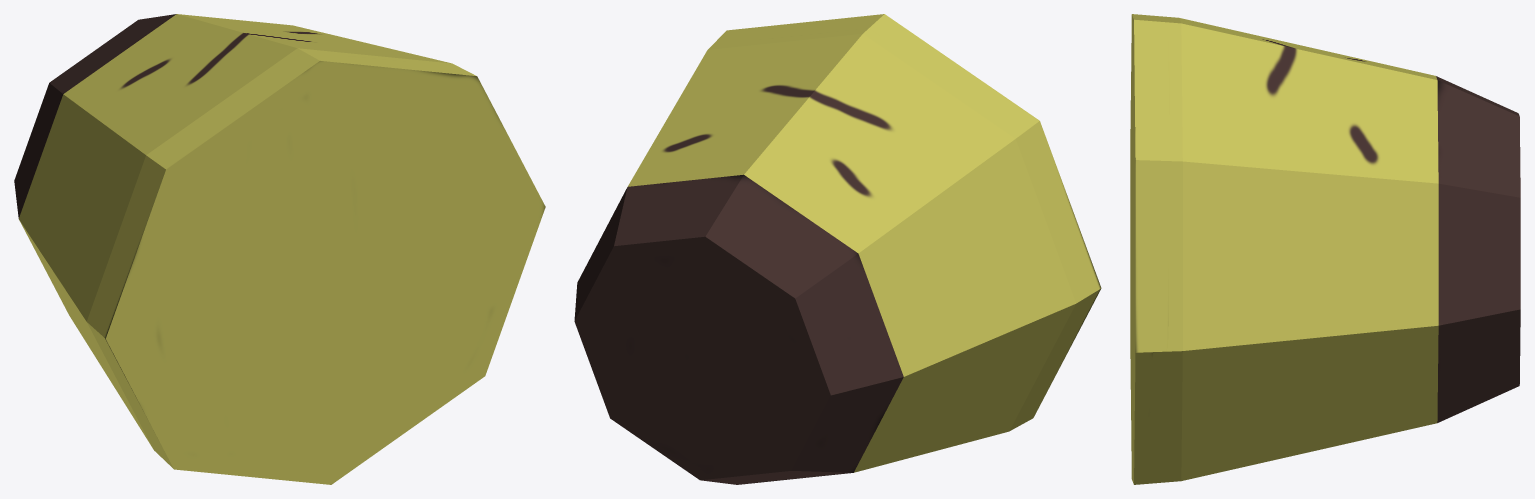
3 renders of one model, left to right at view 1: azimuth 30°, elevation 25°; view 2: azimuth 150°, elevation 25°; view 3: azimuth 270°, elevation 25°, orthographic. The views are drawn at different scales.
Parts seen in each view (by area): view 1: 任; view 2: 任; view 3: 任.
Boxes of the visible parts, x1,y1,x2,y2 form: 任: [14, 14, 545, 484]; 任: [574, 14, 1101, 484]; 任: [1130, 14, 1520, 484].
Bounding box in the file's own units: 129 × 119 × 92.37.
Materials: 2 (2 with a texture image).
